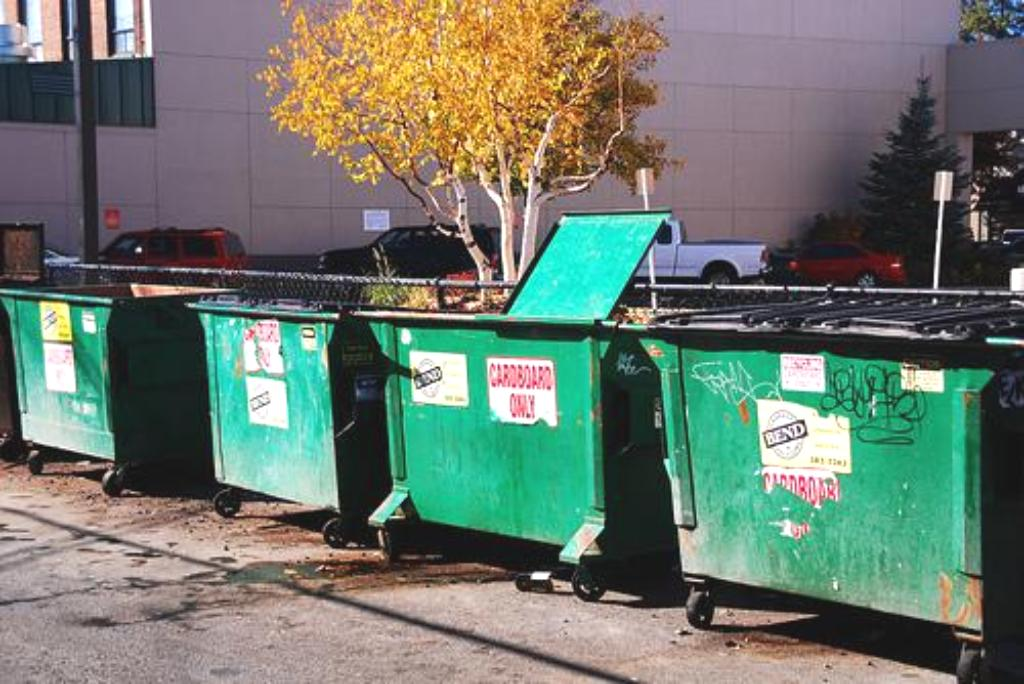dustbin: (625, 296, 1024, 668), (355, 298, 657, 592), (3, 274, 242, 484), (195, 290, 385, 536)
